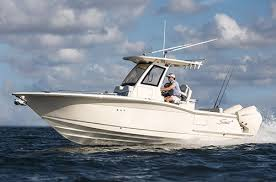boat: (11, 21, 263, 150)
